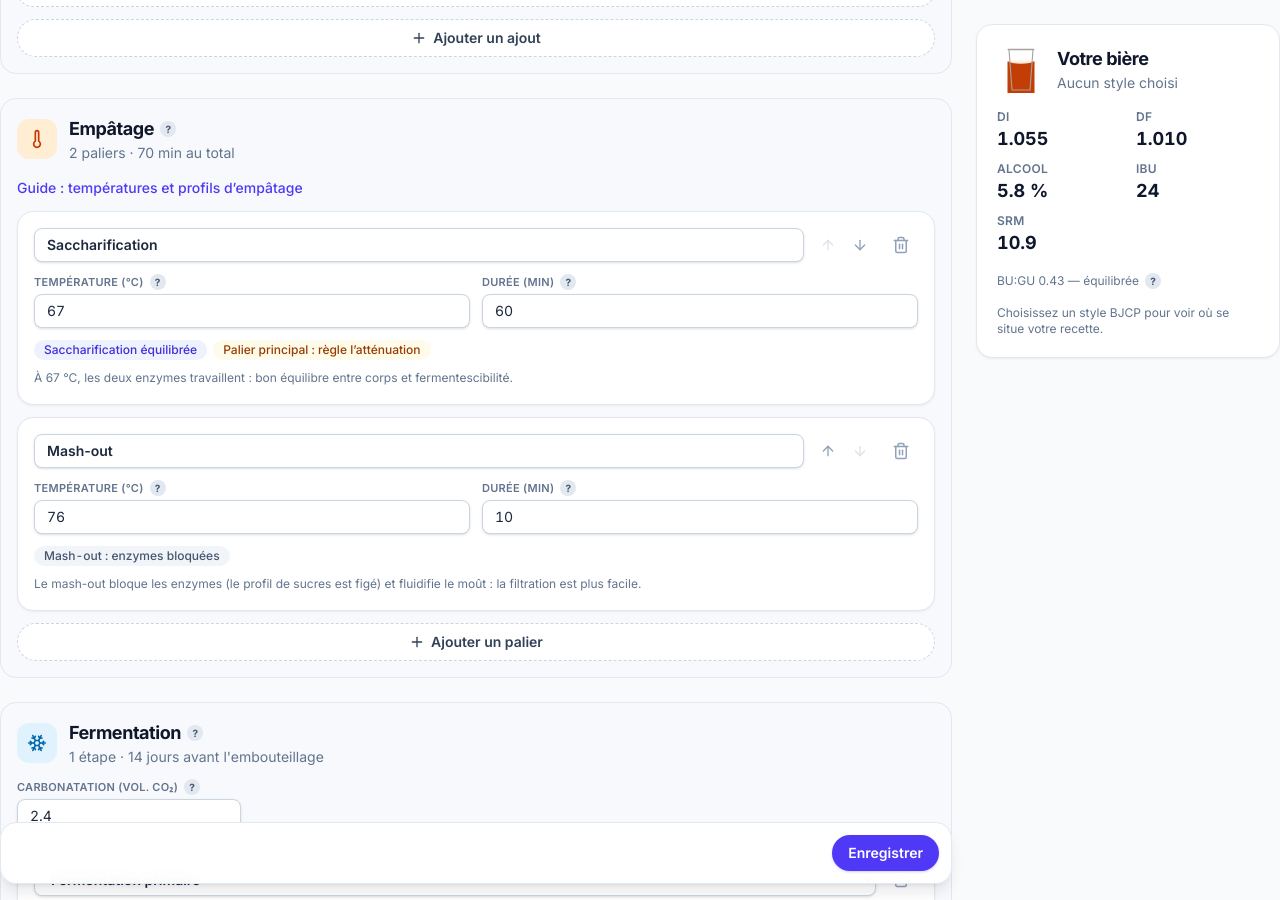
RecipeForm › garde toujours au moins un palier
(page scrolled)
Click the 2nd button named "Retirer" at (901, 451), box [884, 434, 918, 468]
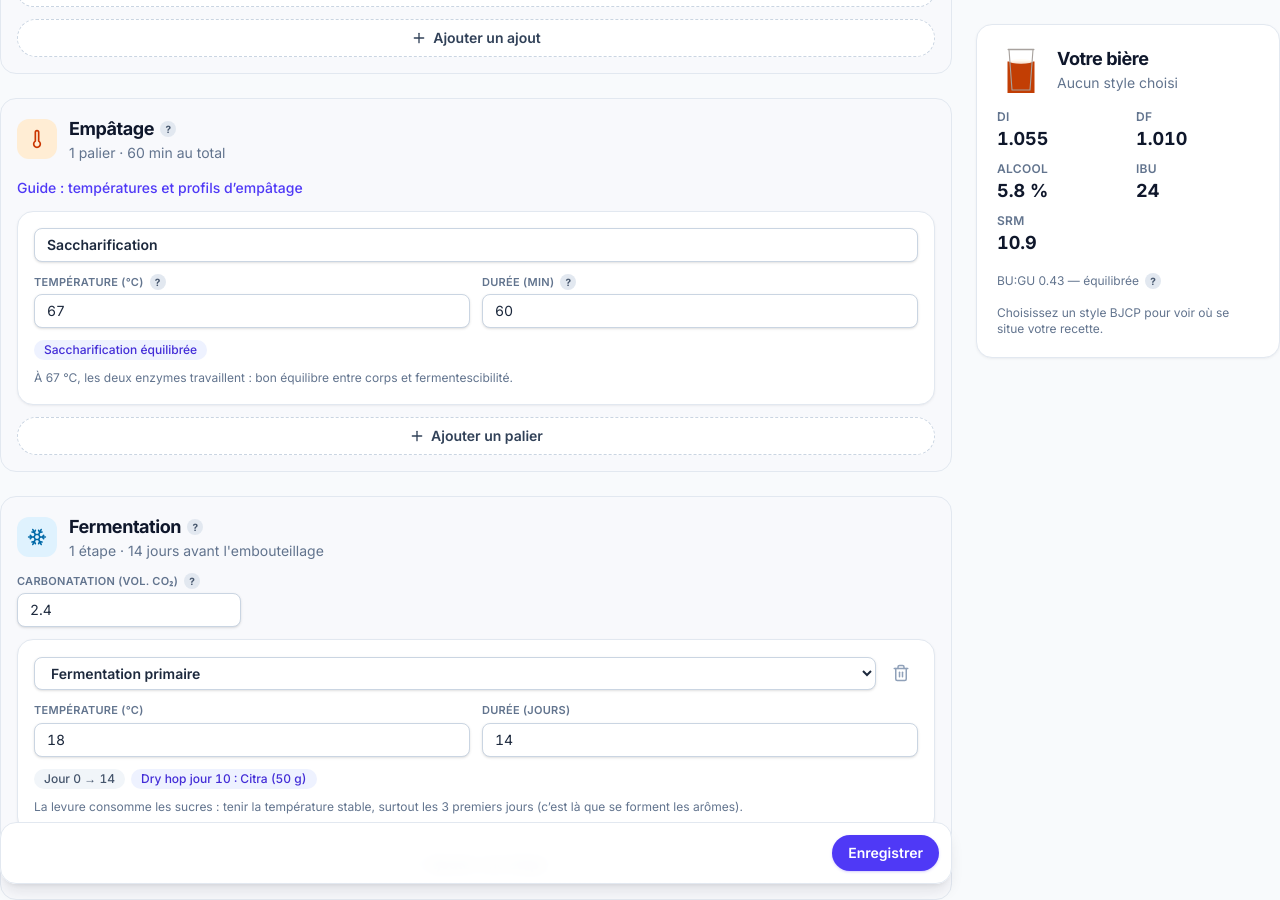
Check: the number of fields named "Nom" is 1, box [34, 228, 918, 262]
